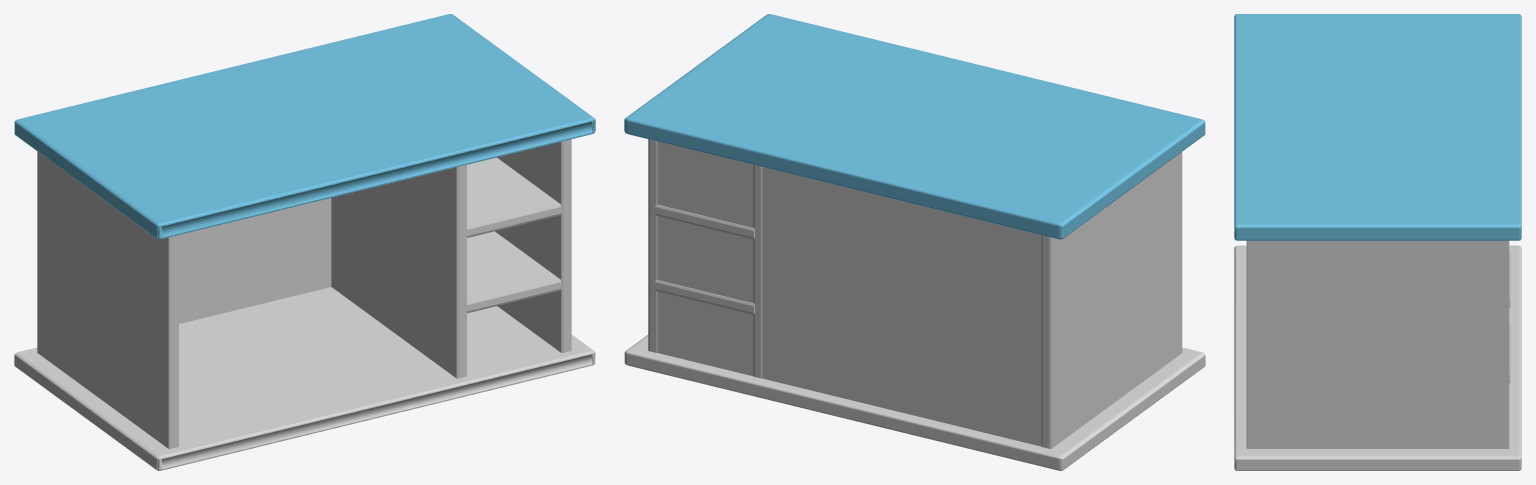
The model's file is longdeskwithshlf.fbx.
3 views of the same model, side by side, from view 1: azimuth 30°, elevation 25°; view 2: azimuth 150°, elevation 25°; view 3: azimuth 270°, elevation 25° (orthographic).
Visible parts, largest first — view 1: LongDeskShelf; view 2: LongDeskShelf; view 3: LongDeskShelf.
Boxes of the visible parts, x1,y1,x2,y2 form: LongDeskShelf: (14, 14, 595, 470); LongDeskShelf: (624, 14, 1205, 470); LongDeskShelf: (1234, 14, 1521, 470).
Bounding box in the file's own units: 2455 × 1323 × 1398.
